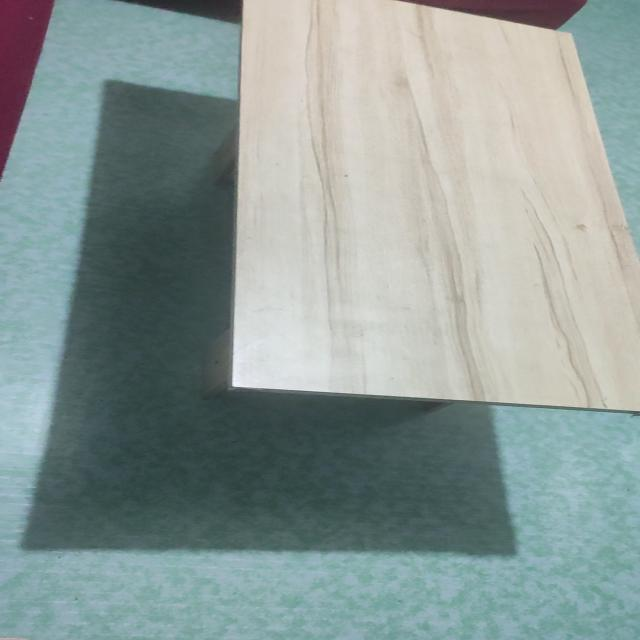table: (190, 0, 640, 425)
